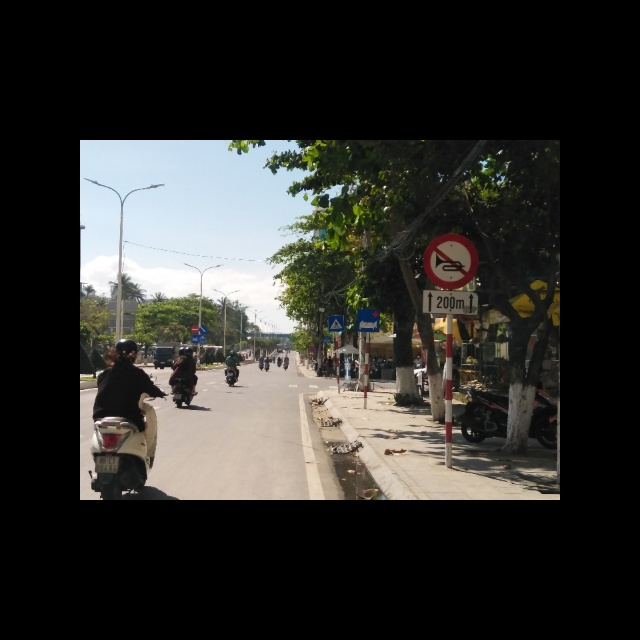Bệnh viện: (356, 308, 380, 333)
Cấm bấm còi: (424, 233, 477, 289)
Đường dành cho người đi bộ: (328, 315, 344, 331)
